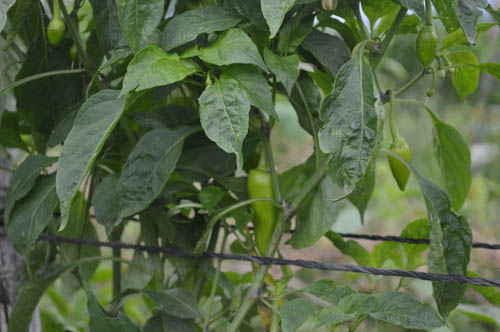ChiliPepper: (247, 170, 277, 254), (390, 144, 411, 192)
